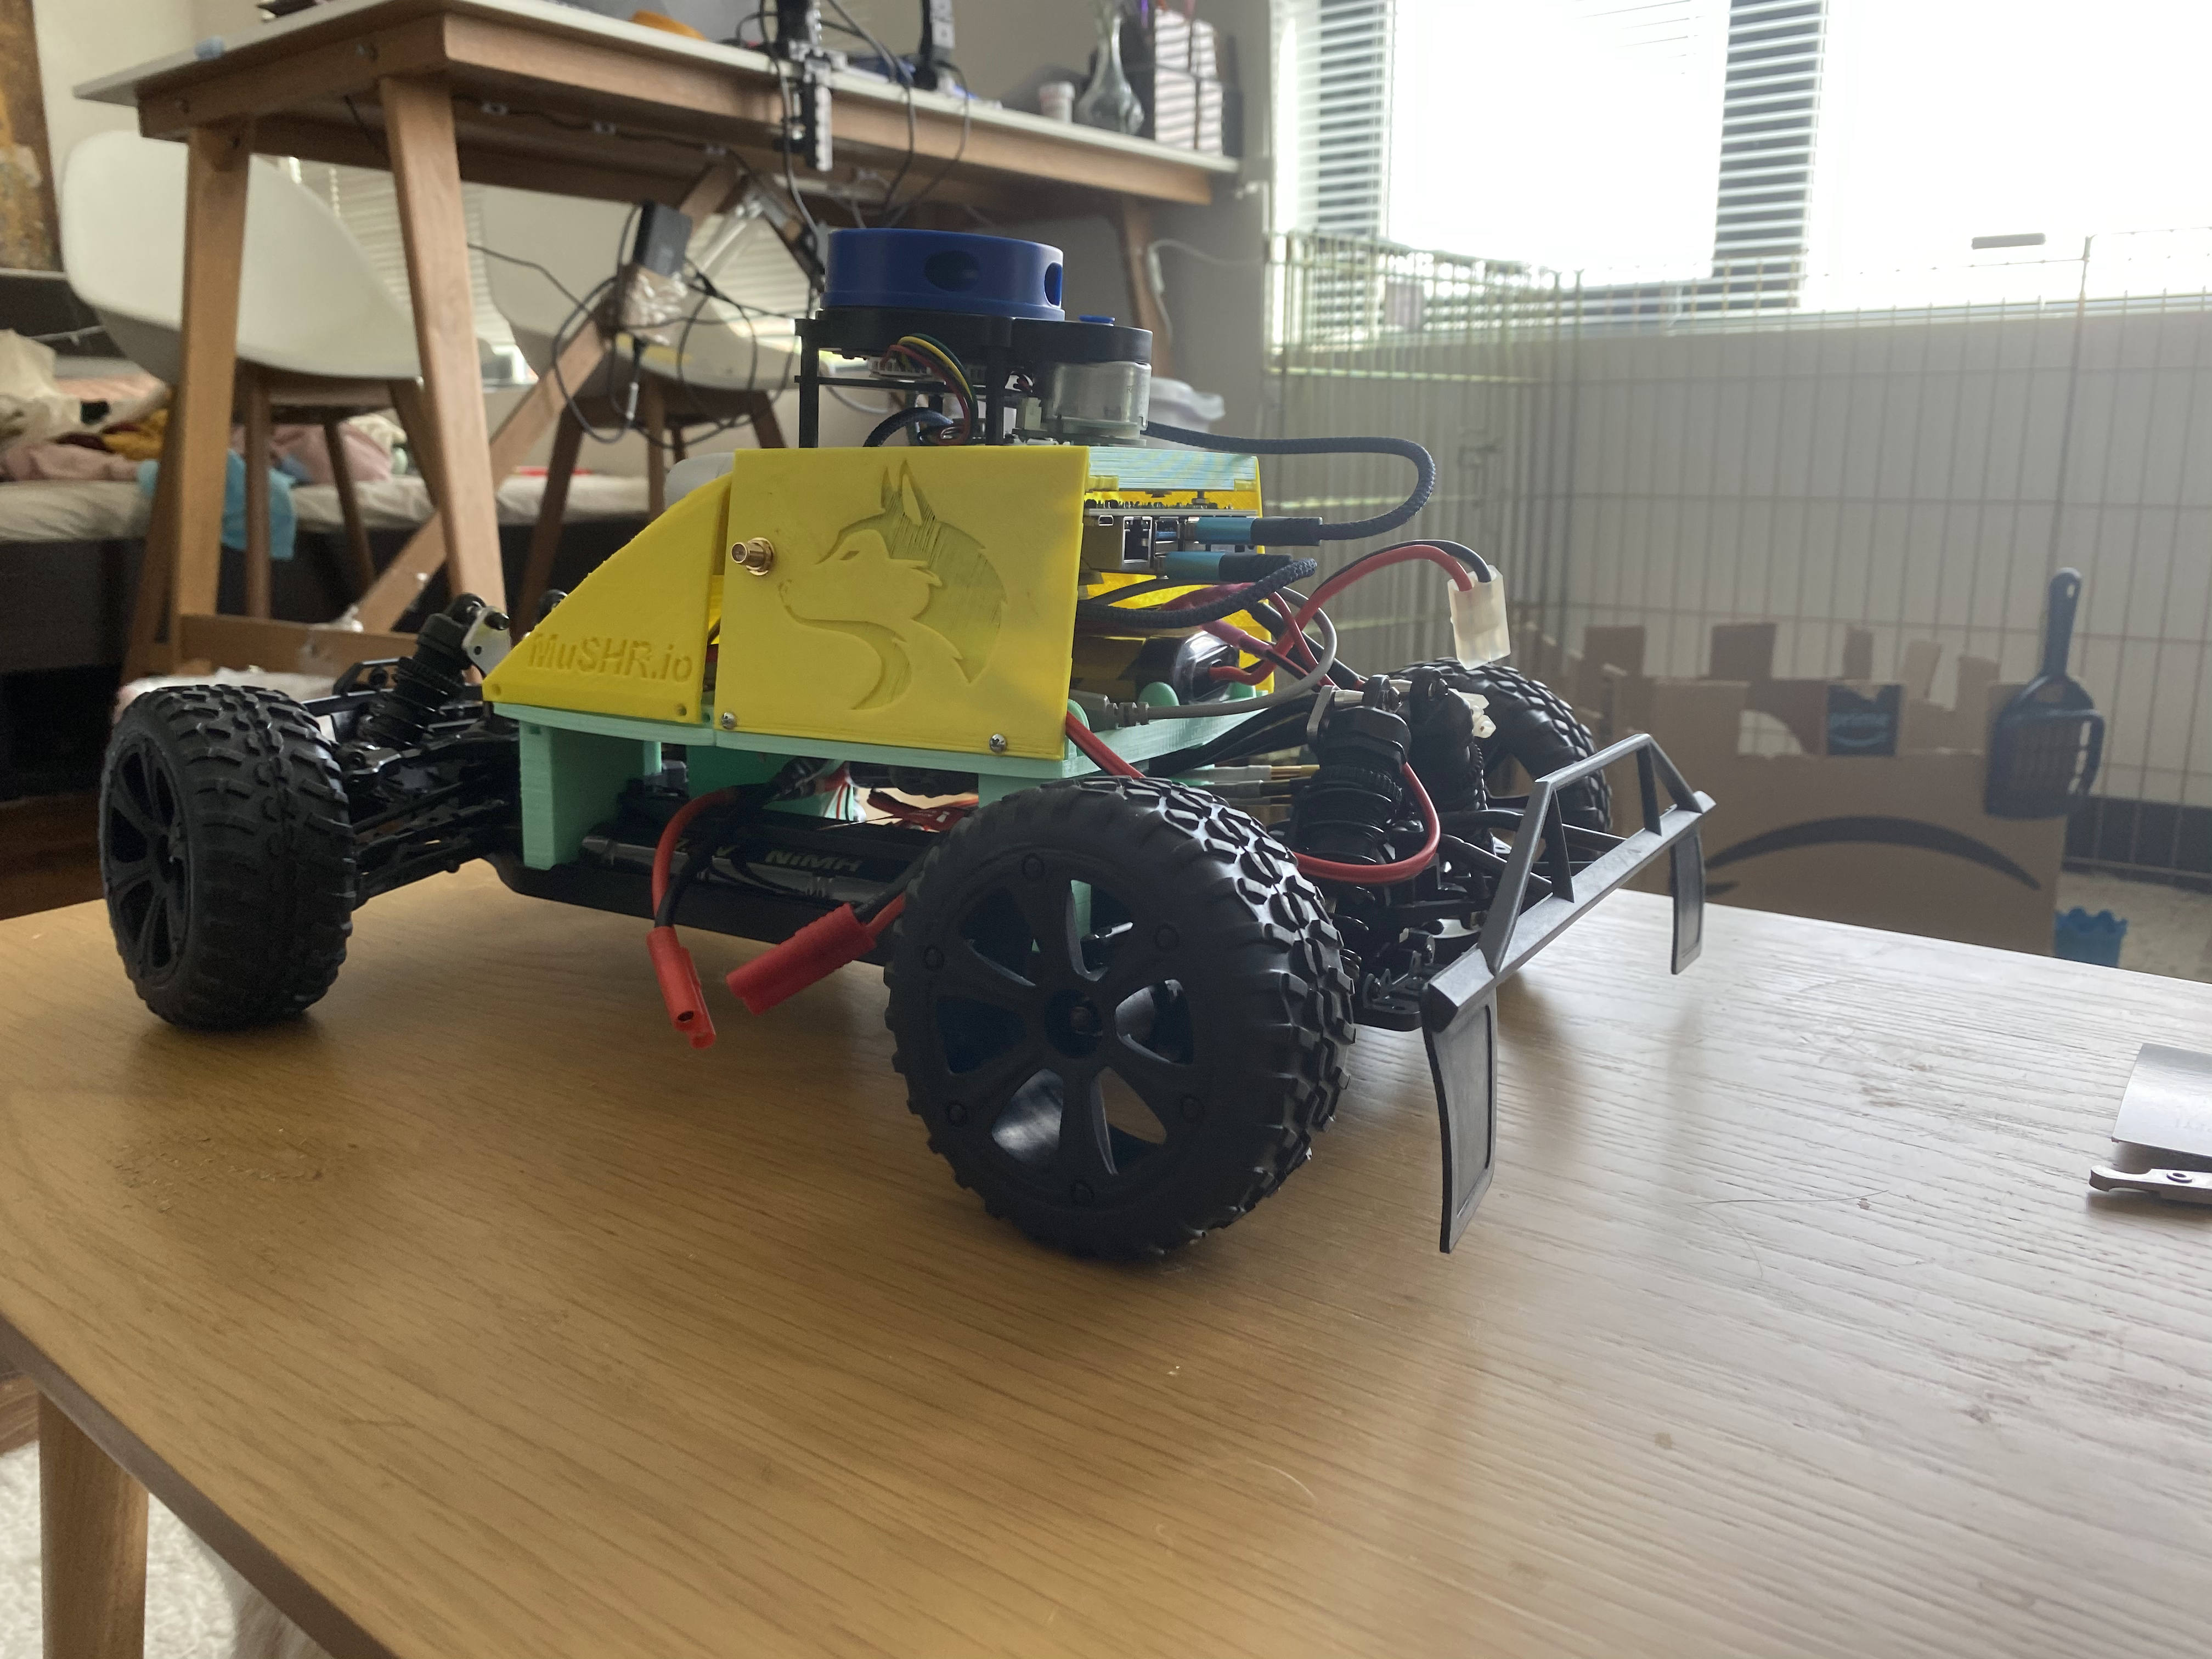mushr_car: (101, 174, 1738, 1293)
